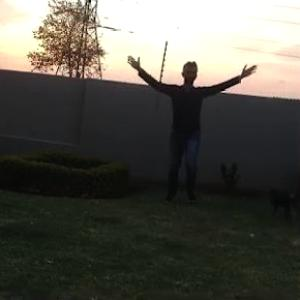takeoff: (97, 47, 246, 214)
